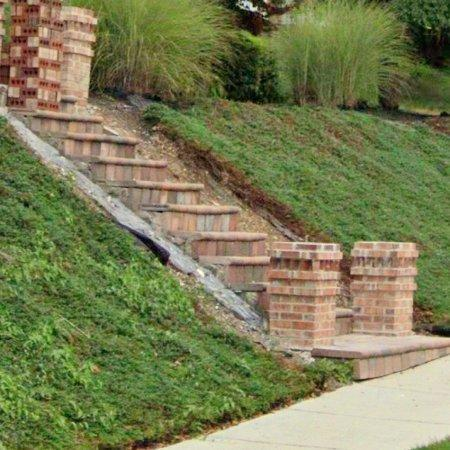stairs: (31, 111, 271, 300)
